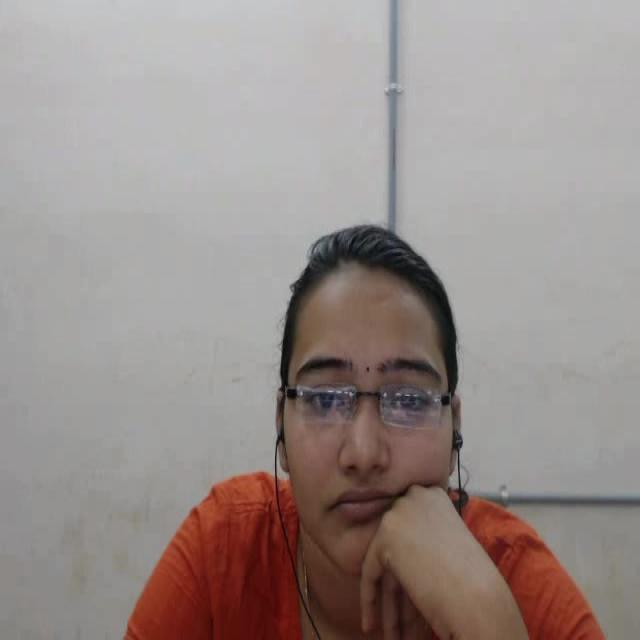Bored: (268, 197, 474, 587)
